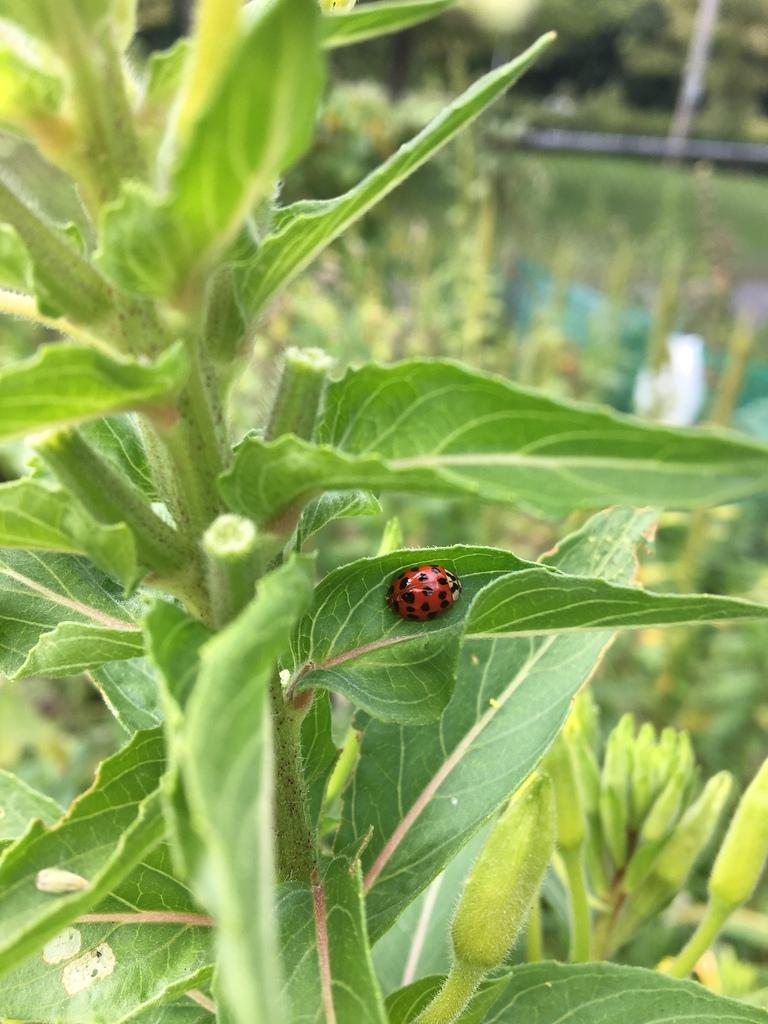ladybug: (385, 562, 467, 626)
